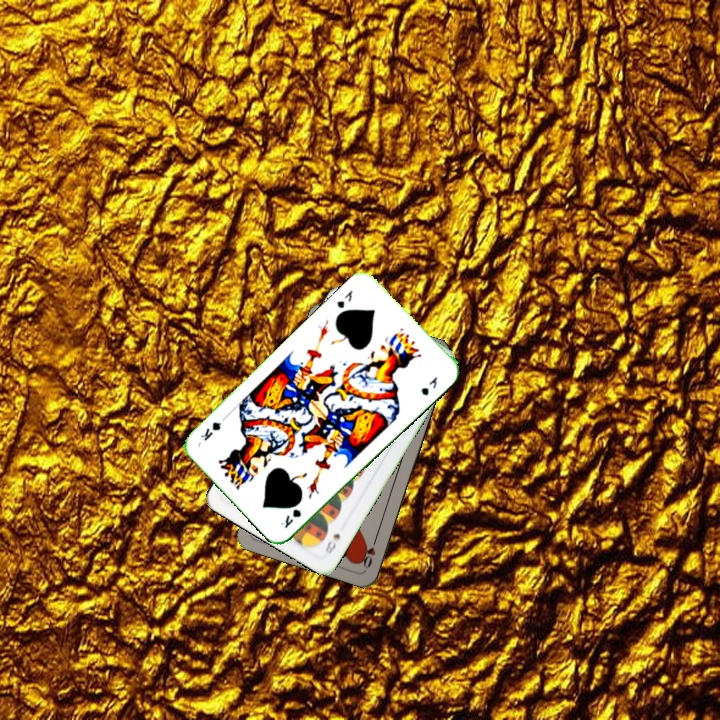GK: (276, 505, 304, 531), (333, 286, 355, 311)
HO: (358, 532, 380, 571)
S8: (321, 529, 343, 557)
